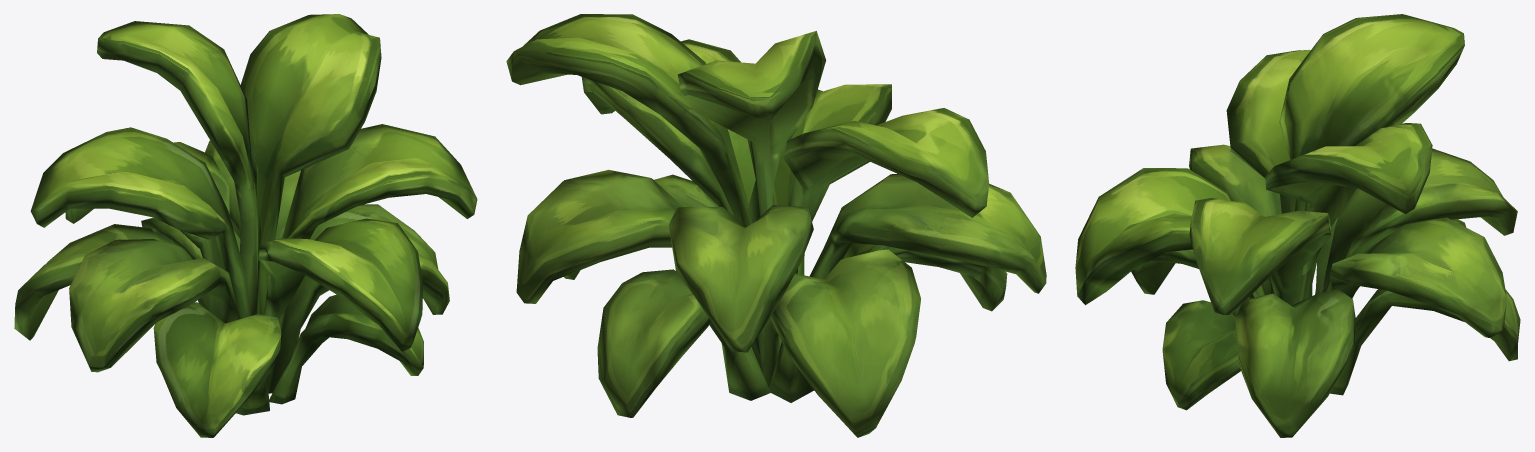
File: Leafy_Plant.fbx
The picture shows the model from 3 angles, left to right: view 1: azimuth 30°, elevation 25°; view 2: azimuth 150°, elevation 25°; view 3: azimuth 270°, elevation 25°; orthographic projection. The views are drawn at different scales.
Visible parts, largest first — view 1: mesh_node; view 2: mesh_node; view 3: mesh_node.
Boxes of the visible parts, box(x1,y1,x2,y2) form: mesh_node: box(14, 14, 477, 437); mesh_node: box(506, 14, 1046, 437); mesh_node: box(1075, 14, 1520, 437).
Size of the model in its own units: 100 by 81.45 by 96.87.
Materials: 1 (1 with a texture image).
